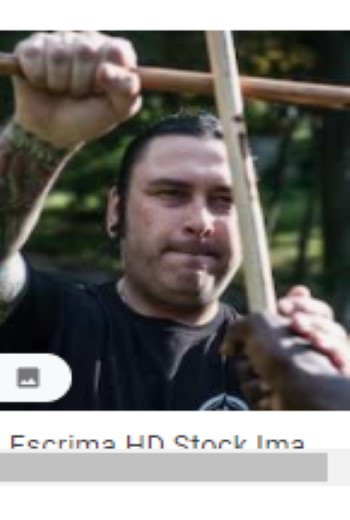baston_e: (206, 113, 305, 307), (140, 53, 340, 124)
baston_v: (195, 17, 248, 58)
